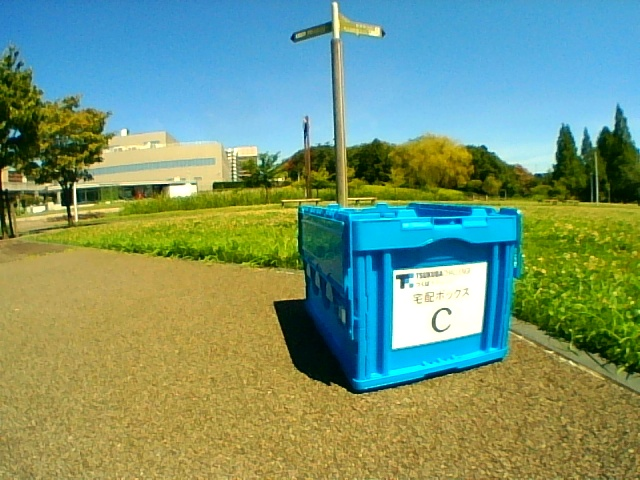blue_box: (349, 209, 506, 358)
tag_c: (402, 272, 472, 334)
